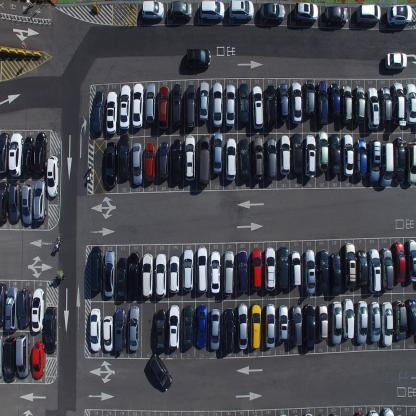car: (148, 353, 172, 391), (15, 332, 31, 378), (4, 285, 19, 331), (8, 132, 23, 177), (303, 302, 316, 352), (315, 80, 329, 126), (343, 242, 357, 288), (103, 249, 116, 298), (44, 305, 57, 354), (380, 301, 394, 346), (303, 247, 316, 295), (89, 245, 102, 293), (386, 3, 413, 26), (392, 82, 406, 126), (227, 0, 255, 22), (380, 246, 394, 290), (236, 302, 249, 349), (368, 137, 381, 184), (392, 241, 406, 284), (34, 131, 48, 174), (303, 133, 316, 179), (381, 141, 394, 187), (105, 89, 118, 135), (31, 288, 44, 334), (199, 135, 211, 184), (354, 138, 368, 180), (105, 140, 117, 189), (393, 299, 407, 341), (238, 137, 251, 182), (264, 83, 277, 128), (251, 85, 264, 130), (368, 248, 381, 293), (33, 178, 46, 223), (196, 246, 208, 294), (118, 132, 130, 180), (168, 303, 180, 351), (128, 304, 140, 352), (4, 334, 16, 382), (378, 85, 392, 126), (366, 87, 380, 128), (199, 0, 225, 22), (259, 2, 285, 24), (355, 3, 381, 25), (185, 46, 211, 68), (355, 299, 368, 343), (46, 155, 59, 199), (21, 182, 34, 226), (210, 81, 222, 128), (184, 134, 196, 181), (277, 245, 289, 292), (132, 82, 144, 129), (119, 83, 131, 130), (155, 252, 167, 299), (141, 252, 153, 299), (128, 250, 139, 301), (341, 133, 354, 176), (223, 308, 235, 354), (157, 85, 169, 131), (264, 246, 276, 292), (196, 304, 208, 350), (131, 140, 143, 186), (294, 0, 318, 23), (116, 256, 128, 302), (316, 129, 329, 171), (250, 302, 262, 347), (265, 136, 277, 181), (290, 132, 302, 177), (93, 90, 105, 135), (316, 249, 328, 294), (182, 248, 194, 293), (182, 305, 194, 350), (154, 308, 166, 353), (89, 307, 101, 352), (368, 302, 381, 343), (250, 247, 262, 291), (225, 138, 237, 182), (212, 131, 224, 175), (171, 83, 183, 127), (236, 249, 248, 293), (140, 0, 164, 22), (329, 252, 341, 296), (115, 306, 126, 354), (18, 287, 31, 327), (224, 82, 236, 125), (278, 134, 290, 177), (404, 82, 416, 125), (144, 141, 156, 184), (290, 303, 302, 346), (223, 249, 234, 295), (252, 134, 263, 180), (0, 133, 11, 179), (328, 132, 340, 174), (144, 82, 156, 124), (342, 298, 354, 340), (264, 303, 275, 348), (330, 300, 341, 345), (328, 82, 341, 120), (31, 341, 44, 379), (277, 303, 289, 344), (353, 84, 365, 125), (340, 83, 352, 124), (291, 81, 302, 125), (238, 82, 249, 126), (169, 0, 192, 21), (158, 140, 170, 180), (324, 5, 348, 25), (168, 254, 180, 294), (9, 180, 20, 223), (102, 314, 114, 353), (385, 50, 407, 71), (22, 136, 34, 174), (186, 83, 196, 128), (172, 138, 182, 183), (210, 249, 220, 294), (394, 140, 404, 185), (406, 238, 416, 283), (289, 250, 301, 287), (210, 307, 220, 351), (405, 141, 415, 185), (303, 80, 315, 116), (278, 82, 289, 121), (199, 80, 209, 121), (356, 249, 367, 286), (317, 304, 328, 340), (0, 180, 9, 223), (406, 298, 416, 336), (0, 282, 7, 328), (0, 334, 4, 378), (381, 406, 394, 416), (367, 408, 379, 415), (354, 410, 365, 416)
